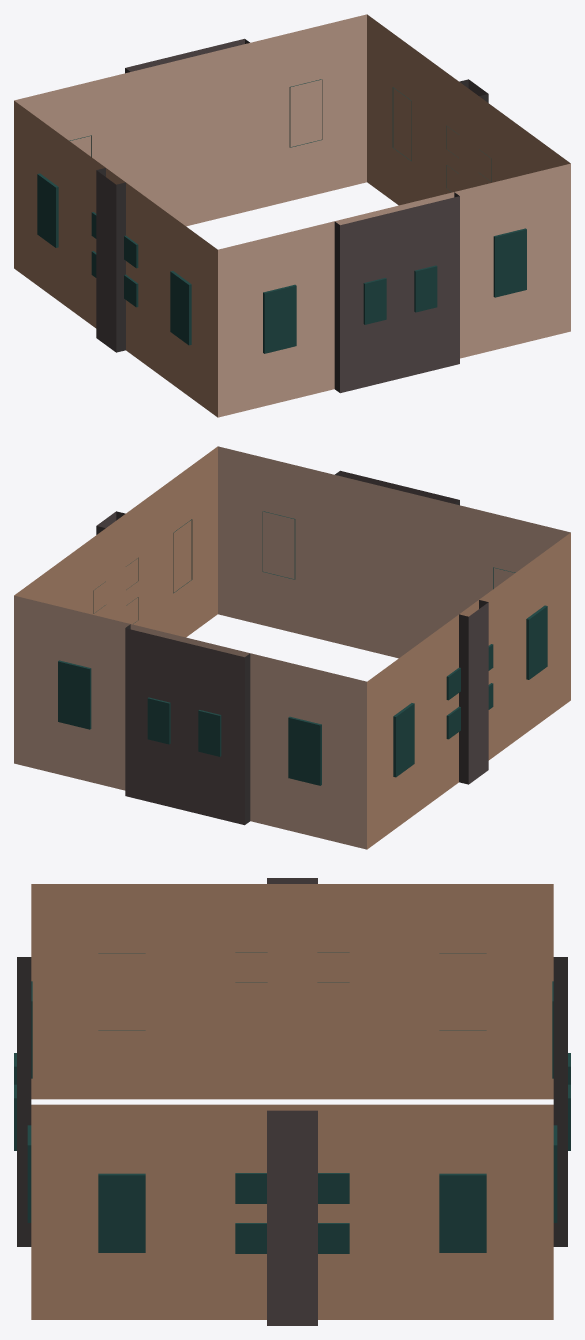
Rendered from TB_CITY_Skysc_Q_UpperBodyA_Brown.FBX.
The picture shows the model from 3 angles, top to bottom: view 1: azimuth 30°, elevation 25°; view 2: azimuth 150°, elevation 25°; view 3: azimuth 270°, elevation 25°; orthographic projection. The views are drawn at different scales.
Visible parts, largest first — view 1: TB_CITY_Skysc_Q_UpperBodyA_Brown; view 2: TB_CITY_Skysc_Q_UpperBodyA_Brown; view 3: TB_CITY_Skysc_Q_UpperBodyA_Brown.
Part boxes in pixels (left/top/right/bottom): TB_CITY_Skysc_Q_UpperBodyA_Brown: left=14, top=14, right=570, bottom=417; TB_CITY_Skysc_Q_UpperBodyA_Brown: left=14, top=446, right=570, bottom=849; TB_CITY_Skysc_Q_UpperBodyA_Brown: left=14, top=878, right=570, bottom=1325.
Size of the model in its own units: 11.6 by 5 by 11.73.
